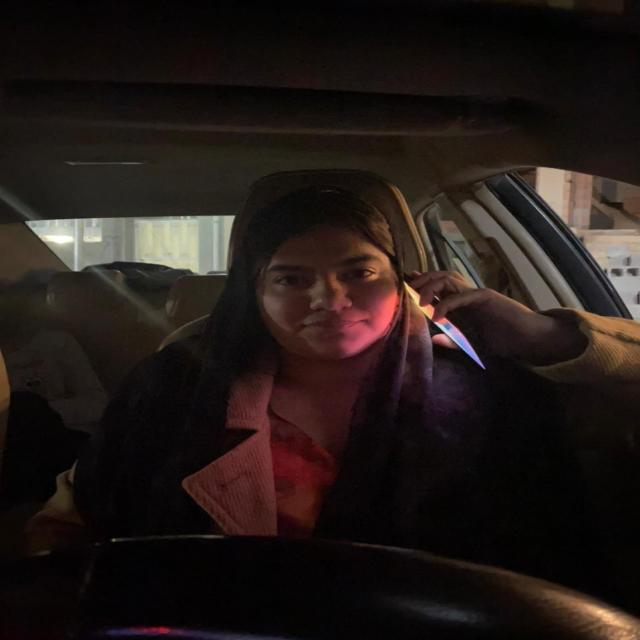mobile: (403, 280, 503, 391)
person: (242, 202, 406, 367)
